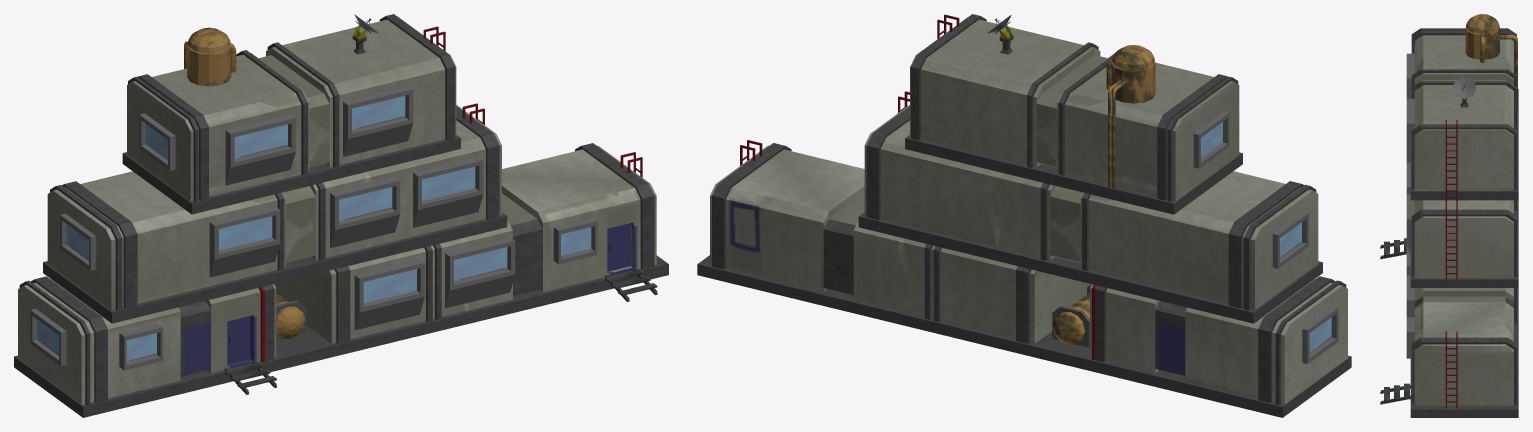
File: Edificio7.fbx
The picture shows the model from 3 angles, left to right: view 1: azimuth 30°, elevation 25°; view 2: azimuth 150°, elevation 25°; view 3: azimuth 270°, elevation 25°; orthographic projection. The views are drawn at different scales.
Visible parts, largest first — view 1: LOD_0; view 2: LOD_0; view 3: LOD_0.
Part boxes in pixels (bbox=[...]): LOD_0: bbox=[14, 14, 668, 417]; LOD_0: bbox=[697, 14, 1351, 417]; LOD_0: bbox=[1380, 14, 1518, 417].
Size of what is drawn, in the model's own units: 2996 by 1503 by 779.
